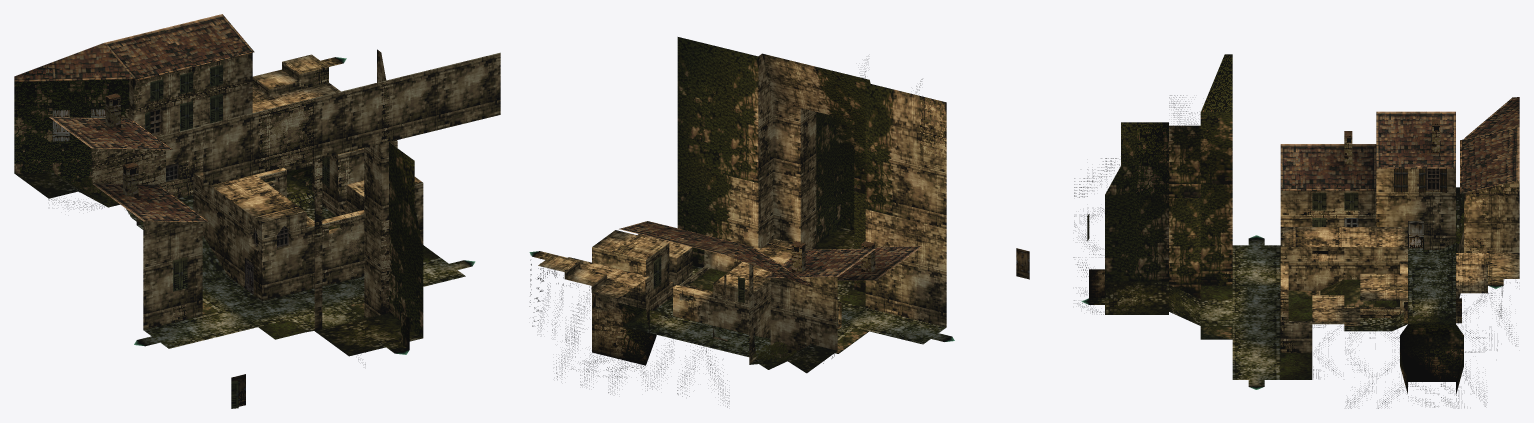
The model's file is MAP157.gltf.
3 views of the same model, side by side, from view 1: azimuth 30°, elevation 25°; view 2: azimuth 150°, elevation 25°; view 3: azimuth 270°, elevation 25° (orthographic). The views are drawn at different scales.
Bounding box in the file's own units: 294 × 230 × 370.
111 materials, 111 textured.
